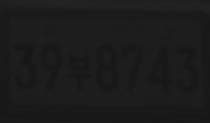3: (14, 44, 39, 91), (175, 46, 200, 93)
4: (147, 45, 174, 94)
7: (120, 41, 146, 92)
8: (91, 41, 117, 89)
9: (39, 43, 64, 91)
부: (66, 51, 91, 89)
